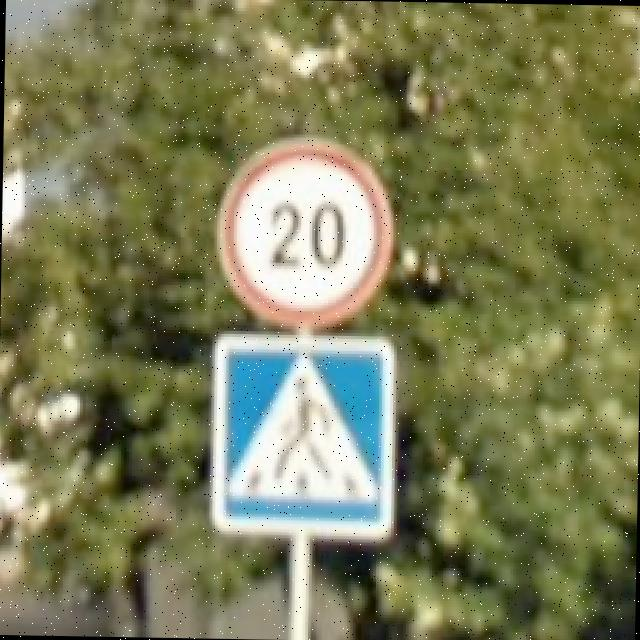Ograniczenie predkosci do 20: (212, 132, 397, 330)
Przejscie dla pieszych: (208, 332, 396, 542)
